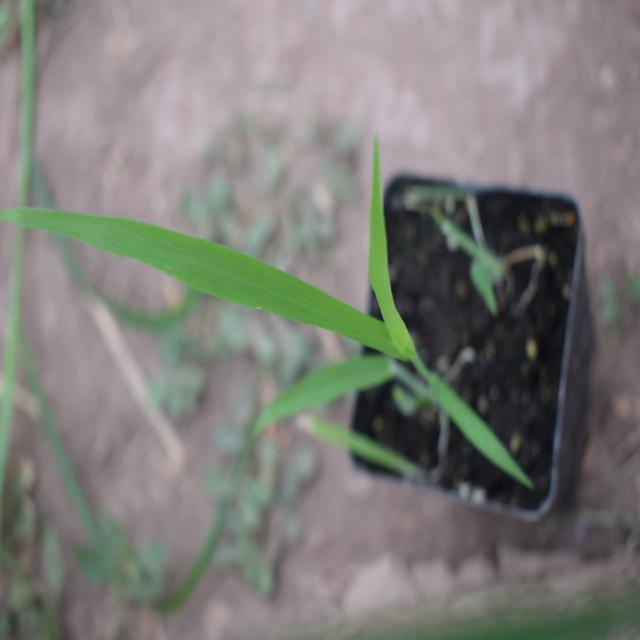crabgrass: (15, 173, 504, 479)
